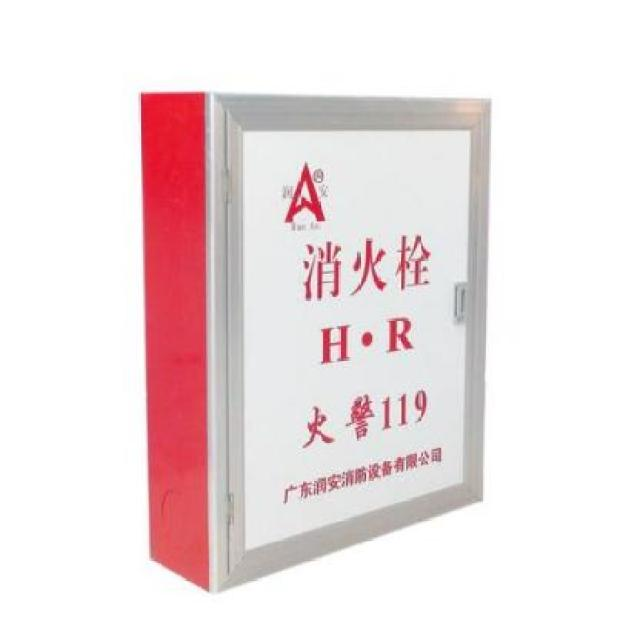firehydrant: (132, 85, 495, 599)
